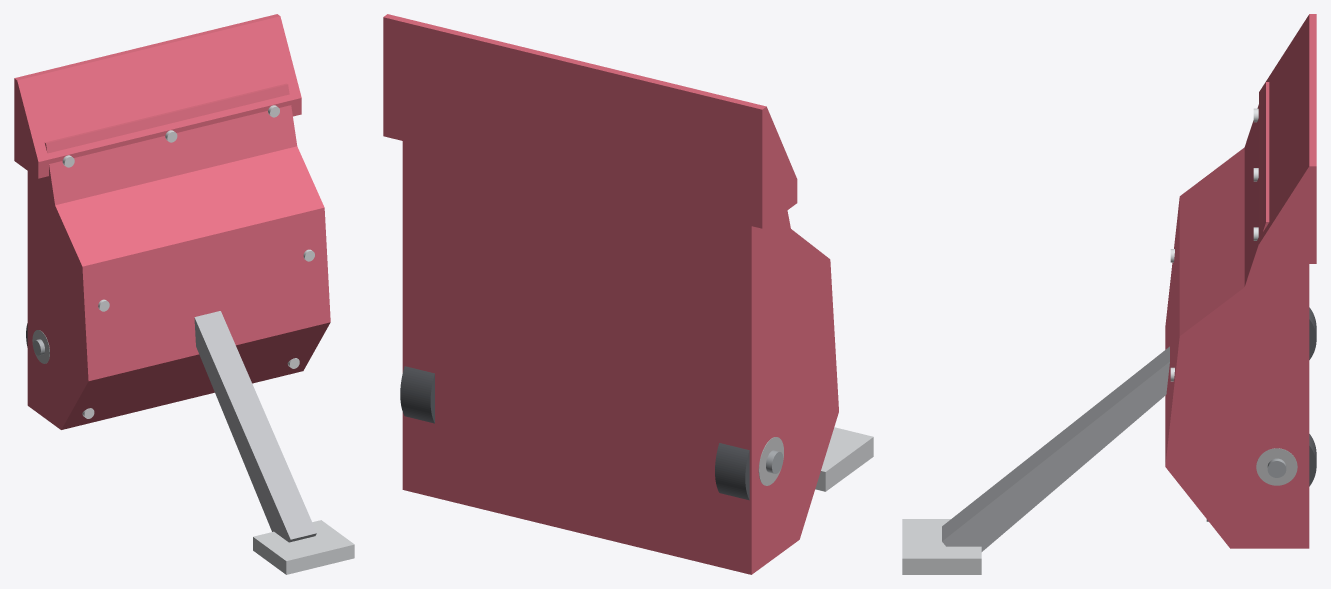
Rendered from dantomthor.glb.
3 views of the same model, side by side, from view 1: azimuth 30°, elevation 25°; view 2: azimuth 150°, elevation 25°; view 3: azimuth 270°, elevation 25° (orthographic). The views are drawn at different scales.
Visible parts, largest first — view 1: chassis, skirt, hammer_arm, hammer_head; view 2: chassis, skirt, hammer_head, wheel_r0, wheel_l0, dt_hub_wheel_r0; view 3: chassis, skirt, hammer_arm, hammer_head, dt_hub_wheel_l0.
Boxes of the visible parts, box(x1,y1,x2,y2) form: chassis: box(27, 83, 330, 429); skirt: box(14, 14, 301, 178); hammer_arm: box(194, 311, 316, 542); hammer_head: box(253, 520, 354, 574); chassis: box(402, 141, 838, 574); skirt: box(383, 14, 797, 228); hammer_head: box(815, 427, 873, 491); wheel_r0: box(715, 443, 749, 500); wheel_l0: box(400, 366, 434, 423); dt_hub_wheel_r0: box(758, 437, 783, 485); chassis: box(1165, 82, 1309, 548); skirt: box(1259, 14, 1316, 263); hammer_arm: box(942, 346, 1169, 551); hammer_head: box(902, 519, 981, 574); dt_hub_wheel_l0: box(1256, 448, 1297, 485).
Size of the model in its own units: 100 by 144 by 115.
